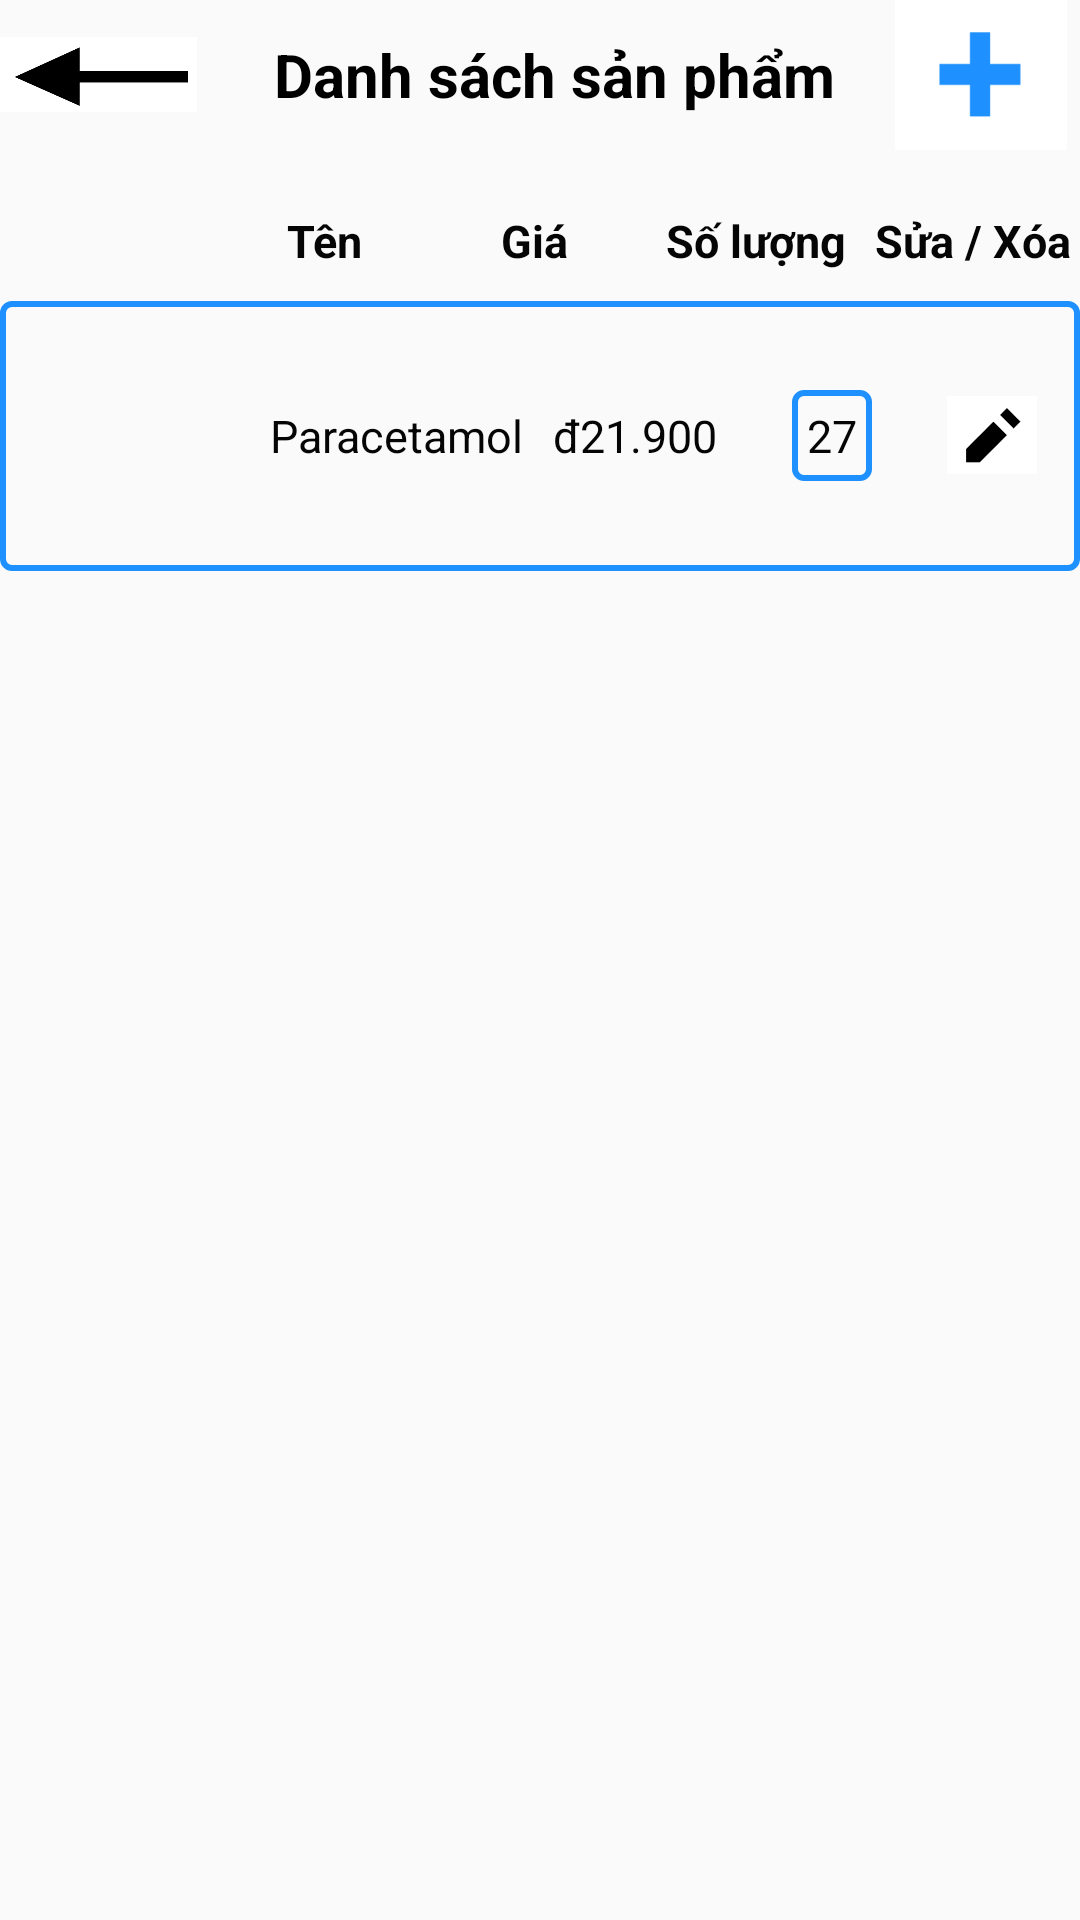

Screen size 1080 × 1920. Icon name, then its center in pixels as [x,y]:
add product: [980,74]
back product: [101,76]
update: [993,435]
